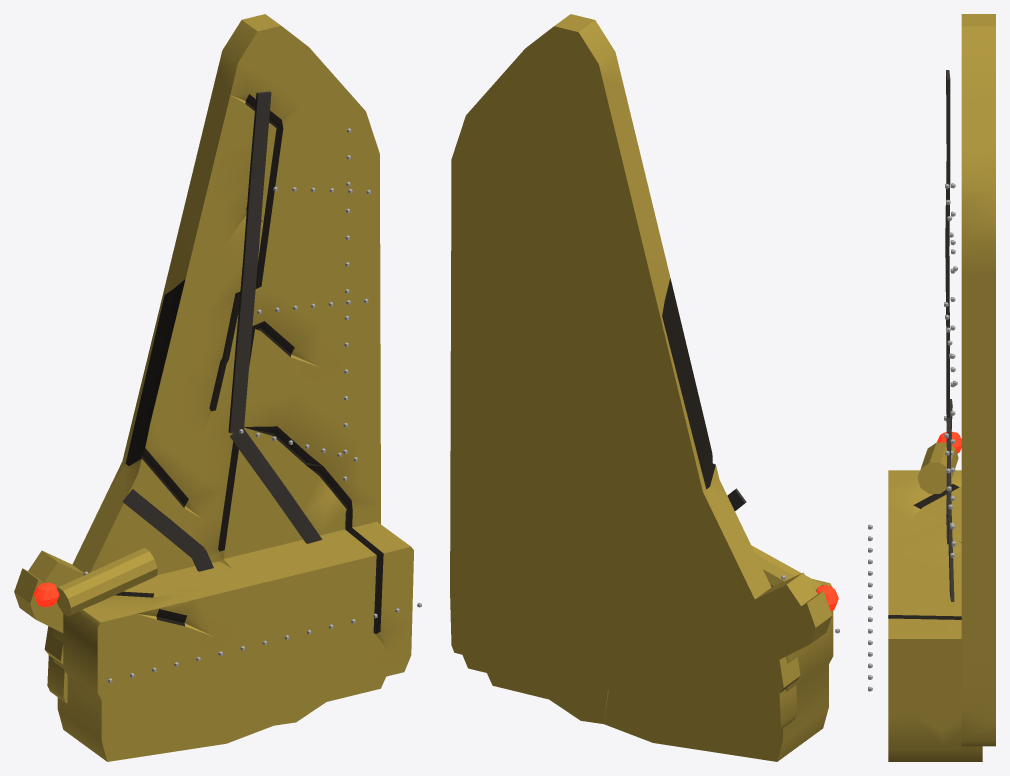
File: crash-site-spaceship-wreck-big-1.glb
The picture shows the model from 3 angles, left to right: view 1: azimuth 30°, elevation 25°; view 2: azimuth 150°, elevation 25°; view 3: azimuth 270°, elevation 25°; orthographic projection. The views are drawn at different scales.
Visible parts, largest first — view 1: body; view 2: body; view 3: body.
Boxes of the visible parts, left/top/right/bottom form: body: left=14, top=14, right=421, bottom=761; body: left=450, top=14, right=839, bottom=761; body: left=868, top=14, right=995, bottom=761.
Bounding box in the file's own units: 2.53 × 4.62 × 0.7444.
